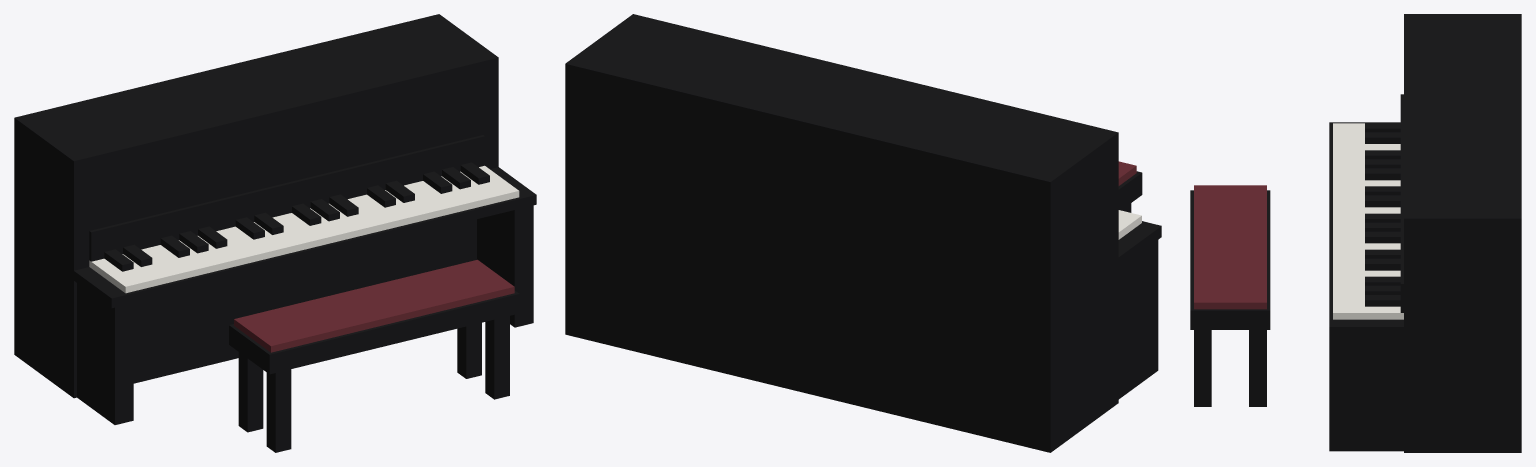
The model's file is piano.glb.
3 renders of one model, left to right at view 1: azimuth 30°, elevation 25°; view 2: azimuth 150°, elevation 25°; view 3: azimuth 270°, elevation 25°, orthographic. The views are drawn at different scales.
Parts seen in each view (by area): view 1: piano; view 2: piano; view 3: piano.
Part boxes in pixels (left/top/right/bottom): piano: left=14, top=14, right=536, bottom=452; piano: left=565, top=14, right=1161, bottom=452; piano: left=1190, top=14, right=1521, bottom=452.
Bounding box in the file's own units: 2.72 × 1.45 × 1.86.
